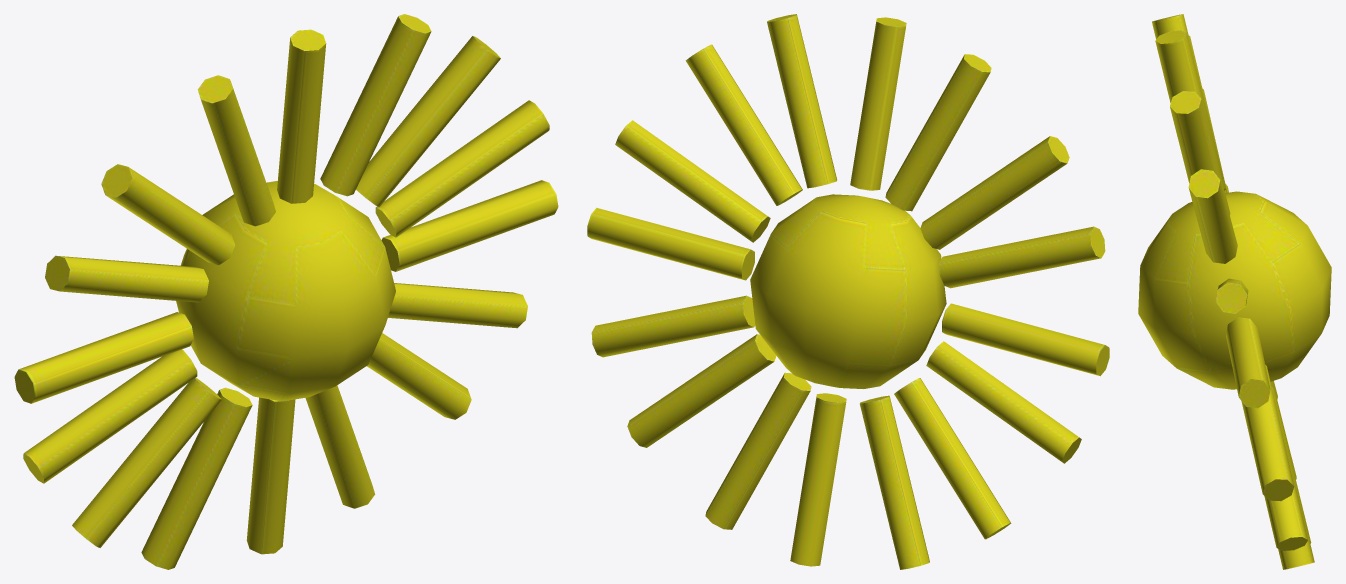
File: 3d_sol_forte.glb
The picture shows the model from 3 angles, left to right: view 1: azimuth 30°, elevation 25°; view 2: azimuth 150°, elevation 25°; view 3: azimuth 270°, elevation 25°; orthographic projection. The views are drawn at different scales.
Parts seen in each view (by area): view 1: node_id8; view 2: node_id8; view 3: node_id8.
Boxes of the visible parts, x1,y1,x2,y2 form: node_id8: (14, 14, 558, 569); node_id8: (587, 14, 1109, 569); node_id8: (1138, 14, 1331, 569).
Bounding box in the file's own units: 0.5123 × 0.5052 × 0.1757.
Materials: 1 (1 with a texture image).
